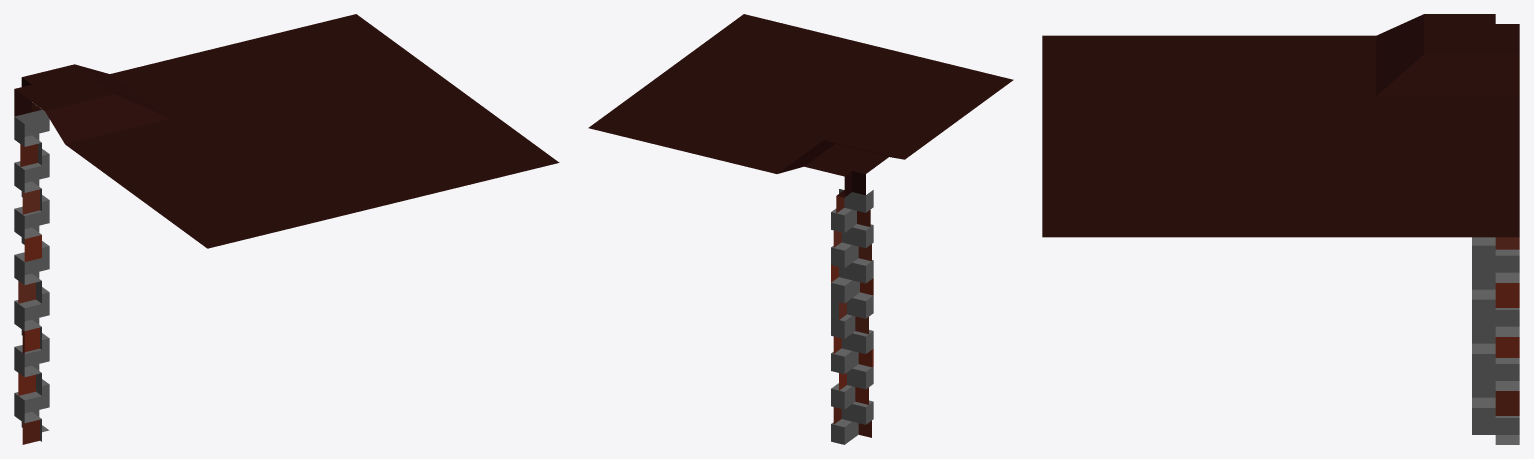
Rendered from Inner_Corner_Wall_Roof_Outer_Corner.obj.
The picture shows the model from 3 angles, left to right: view 1: azimuth 30°, elevation 25°; view 2: azimuth 150°, elevation 25°; view 3: azimuth 270°, elevation 25°; orthographic projection. The views are drawn at different scales.
Visible parts, largest first — view 1: Inner_Corner_Wall_Roof_Outer_Corner; view 2: Inner_Corner_Wall_Roof_Outer_Corner; view 3: Inner_Corner_Wall_Roof_Outer_Corner.
Boxes of the visible parts, x1,y1,x2,y2 form: Inner_Corner_Wall_Roof_Outer_Corner: (14, 14, 559, 444); Inner_Corner_Wall_Roof_Outer_Corner: (588, 14, 1013, 444); Inner_Corner_Wall_Roof_Outer_Corner: (1042, 14, 1519, 444).
Size of the model in its own units: 1 by 0.95 by 1.
